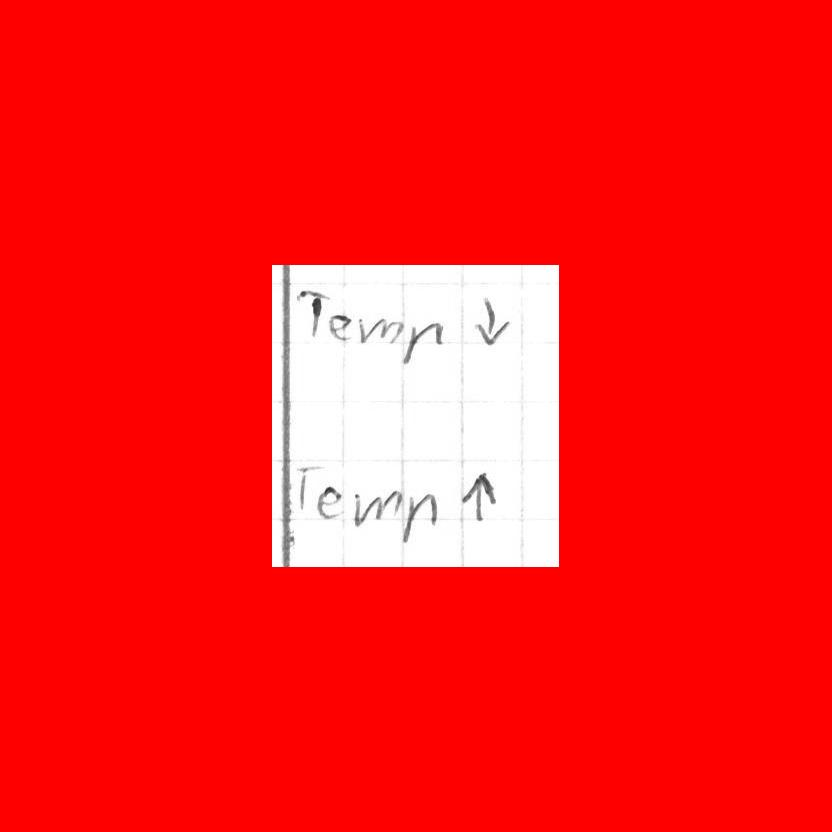Char: (469, 294, 513, 349), (402, 317, 447, 367), (294, 283, 330, 343), (461, 469, 501, 523), (400, 490, 439, 544), (354, 486, 406, 524), (295, 456, 323, 511), (356, 312, 402, 345), (317, 482, 350, 516), (327, 309, 353, 343)
